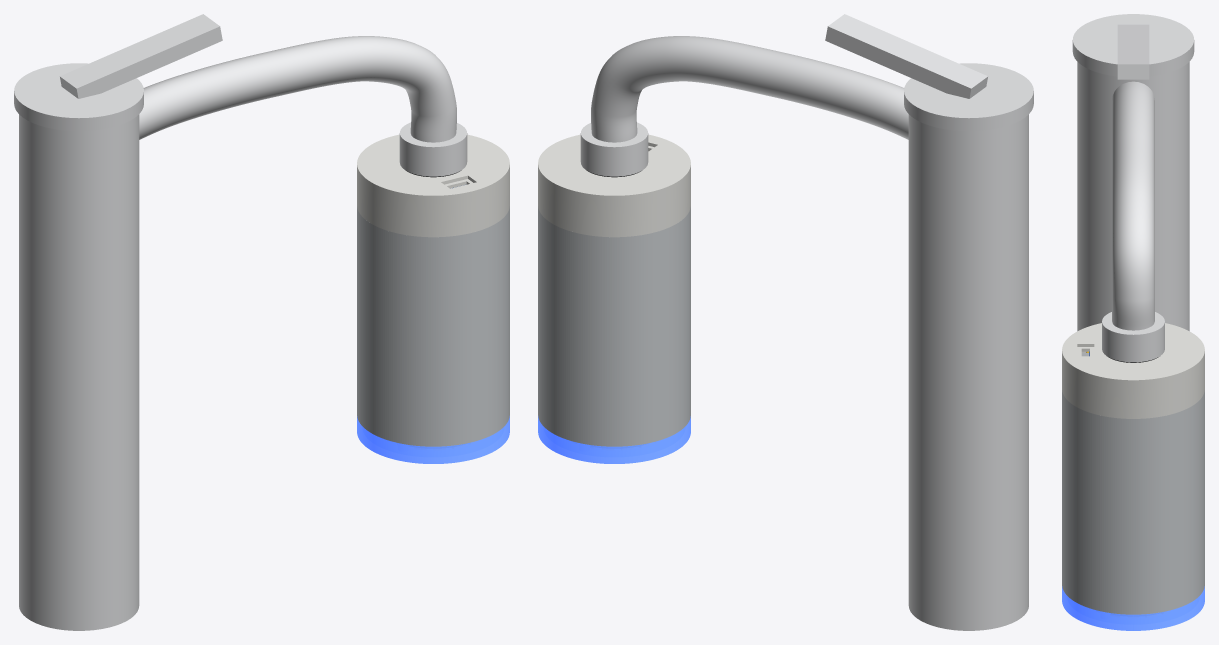
File: HydroTrack_v3_real_parts.glb
The picture shows the model from 3 angles, left to right: view 1: azimuth 30°, elevation 25°; view 2: azimuth 150°, elevation 25°; view 3: azimuth 270°, elevation 25°; orthographic projection. The views are drawn at different scales.
Visible parts, largest first — view 1: Tap body, Aluminium tube Ø63.5, Spout, Top cap + radio band (printed) (STL), Tap top, Lever, Halo diffuser (printed) (STL), Spout end (M22 female); view 2: Tap body, Aluminium tube Ø63.5, Spout, Top cap + radio band (printed) (STL), Tap top, Lever, Halo diffuser (printed) (STL), Spout end (M22 female); view 3: Aluminium tube Ø63.5, Tap body, Spout, Top cap + radio band (printed) (STL), Tap top, Halo diffuser (printed) (STL), Spout end (M22 female), Lever.
Boxes of the visible parts, x1,y1,x2,y2 form: Tap body: [19, 114, 139, 630]; Aluminium tube Ø63.5: [357, 206, 509, 446]; Spout: [139, 36, 456, 142]; Top cap + radio band (printed) (STL): [357, 134, 509, 237]; Tap top: [14, 63, 143, 131]; Lever: [60, 14, 222, 98]; Halo diffuser (printed) (STL): [357, 416, 509, 463]; Spout end (M22 female): [399, 122, 467, 176]; Tap body: [908, 114, 1028, 630]; Aluminium tube Ø63.5: [538, 206, 690, 446]; Spout: [591, 36, 908, 142]; Top cap + radio band (printed) (STL): [538, 134, 690, 237]; Tap top: [904, 63, 1033, 131]; Lever: [825, 14, 987, 98]; Halo diffuser (printed) (STL): [538, 416, 690, 463]; Spout end (M22 female): [580, 122, 648, 176]; Aluminium tube Ø63.5: [1062, 390, 1204, 614]; Tap body: [1077, 62, 1189, 331]; Spout: [1112, 81, 1154, 330]; Top cap + radio band (printed) (STL): [1062, 323, 1204, 418]; Tap top: [1072, 14, 1194, 76]; Halo diffuser (printed) (STL): [1062, 586, 1204, 630]; Spout end (M22 female): [1102, 312, 1164, 362]; Lever: [1117, 24, 1149, 79].
Size of the model in its own units: 0.2288 by 0.2535 by 0.0635.
